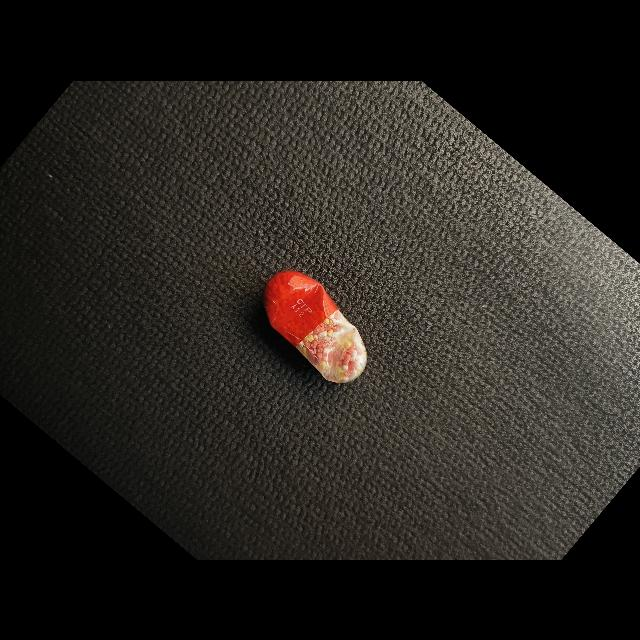Defective Capsule: (264, 270, 367, 383)
